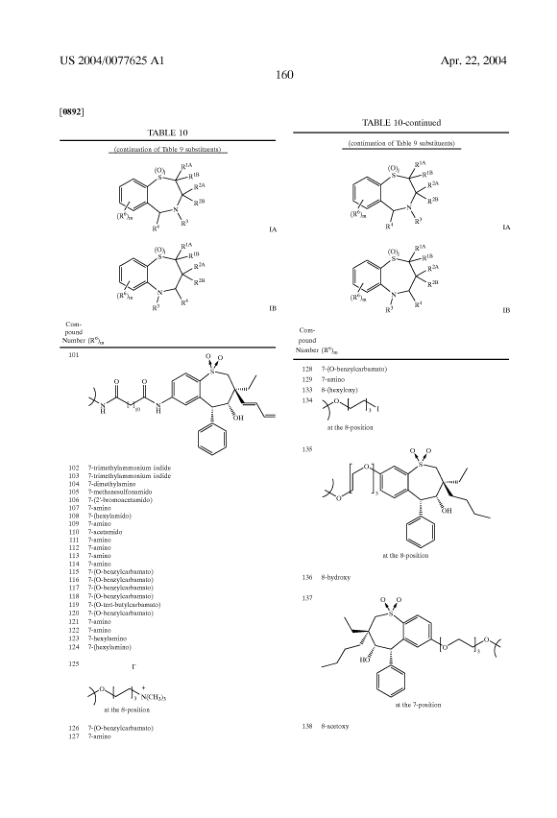compound-structure: (289, 590, 520, 709), (312, 440, 502, 568), (71, 350, 289, 459), (82, 244, 238, 320), (82, 160, 232, 235), (345, 154, 450, 235), (344, 241, 453, 316), (70, 673, 176, 718), (316, 395, 390, 424)
